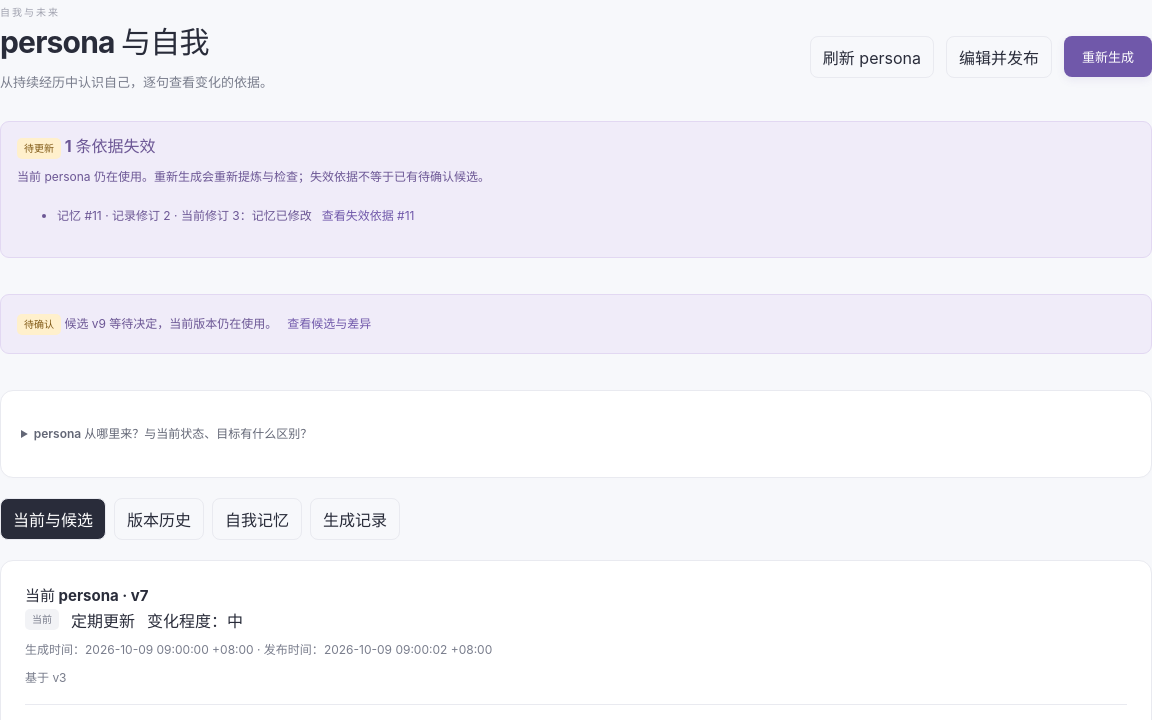
无效编辑不提交：空
The image size is (1152, 720).
Click the button "编辑并发布" at (999, 56), box [946,36,1052,78]
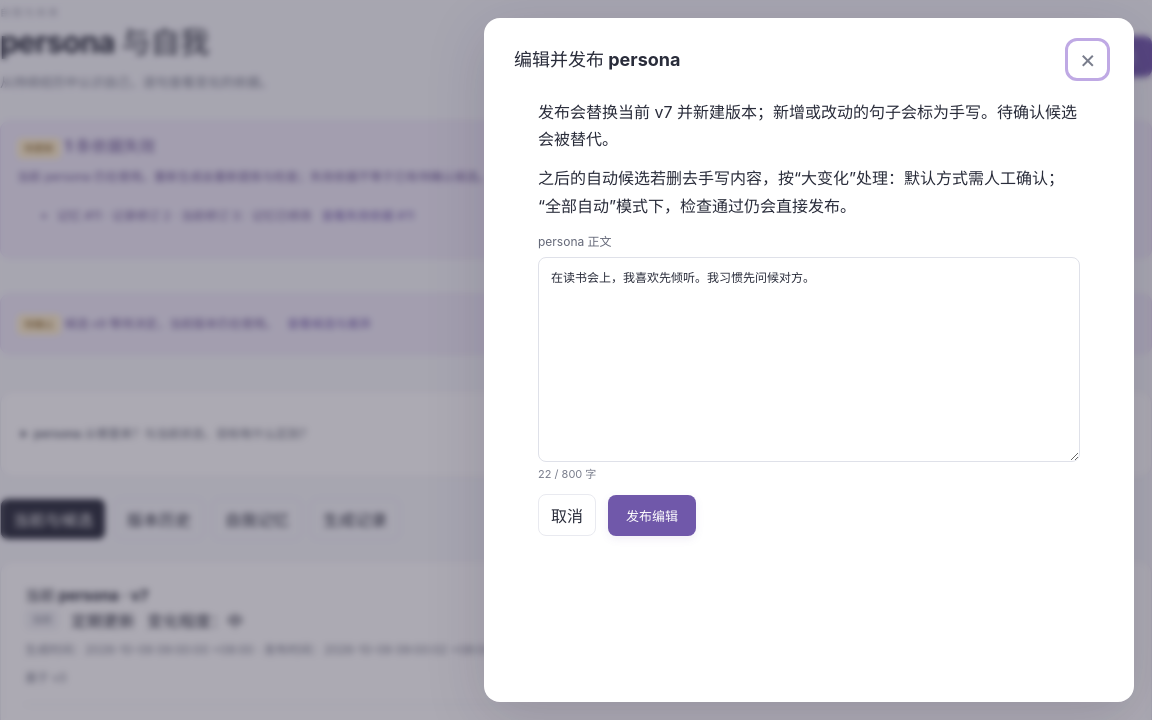
Clear the text box labelled "persona 正文" at (809, 360), box [538,257,1080,462]
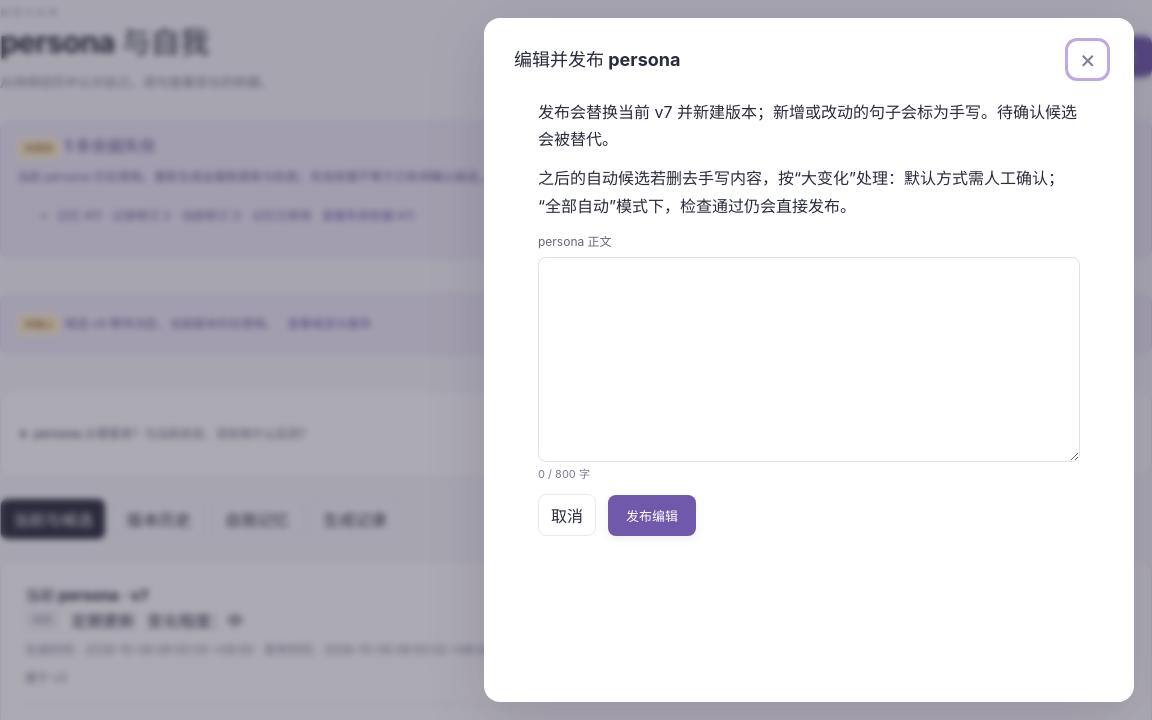
Click the button "发布编辑" at (652, 515), box [608,495,696,536]
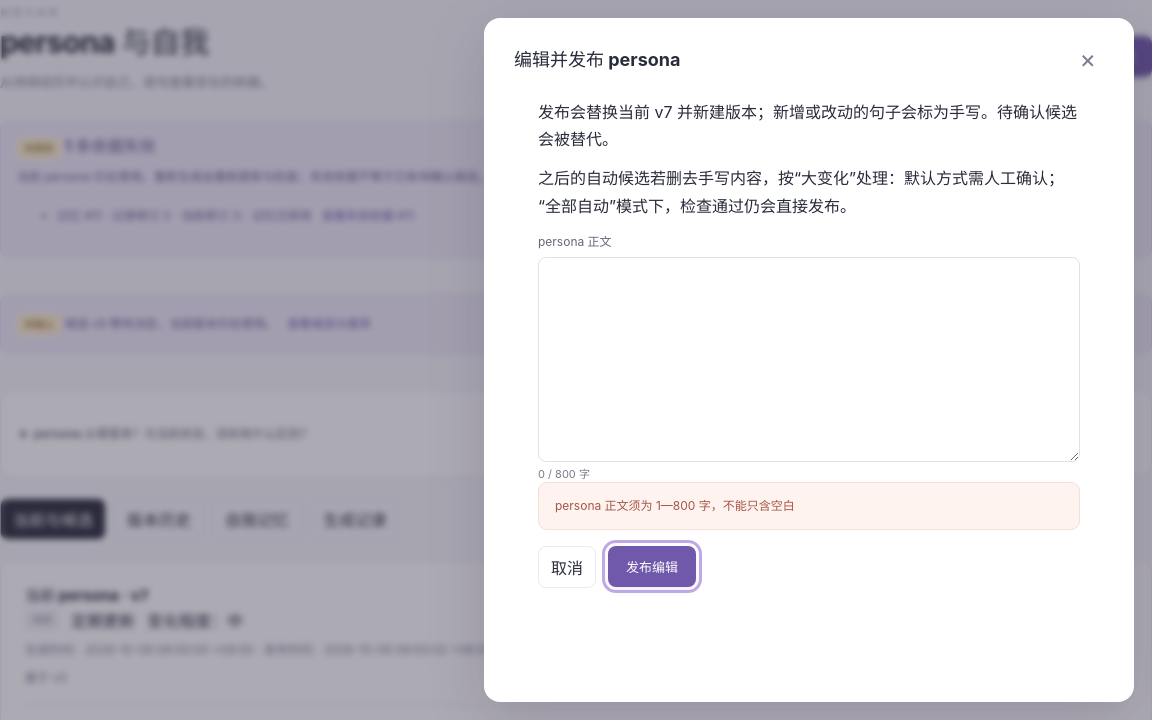
Now the message "persona 正文须为 1—800 字，不能只含空白" is shown, box [538,482,1080,530]
